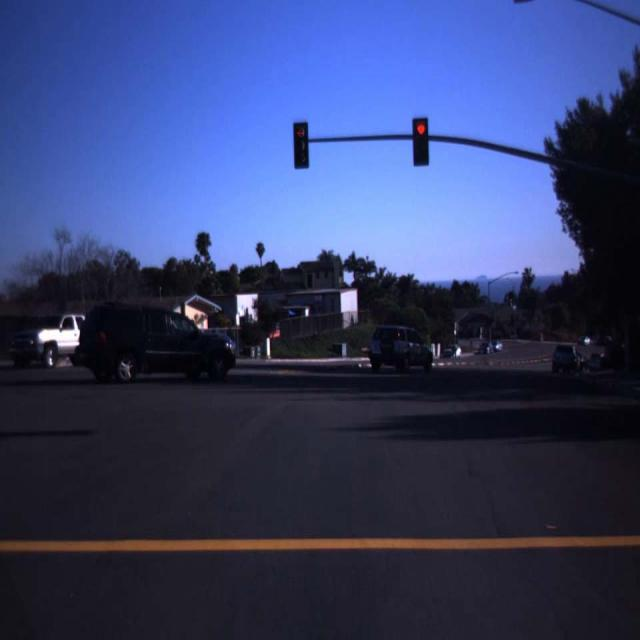kirmizi: (412, 118, 430, 168)
